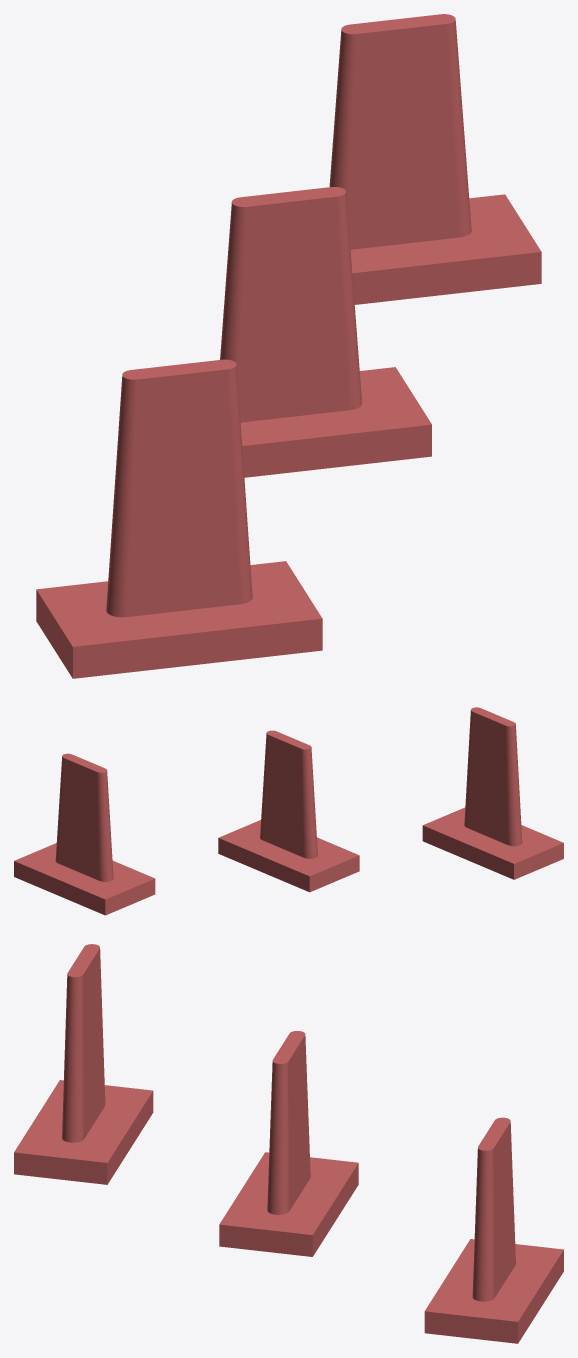
File: bridge2_piers.obj
The picture shows the model from 3 angles, top to bottom: view 1: azimuth 30°, elevation 25°; view 2: azimuth 150°, elevation 25°; view 3: azimuth 270°, elevation 25°; orthographic projection. The views are drawn at different scales.
Visible parts, largest first — view 1: mesh_0, mesh_1, mesh_2; view 2: mesh_0, mesh_1, mesh_2; view 3: mesh_0, mesh_2, mesh_1.
Boxes of the visible parts, left/top/right/bottom form: mesh_0: left=36, top=359, right=322, bottom=678; mesh_1: left=220, top=187, right=431, bottom=477; mesh_2: left=329, top=14, right=541, bottom=304; mesh_0: left=422, top=707, right=563, bottom=879; mesh_1: left=218, top=730, right=359, bottom=892; mesh_2: left=14, top=753, right=155, bottom=915; mesh_0: left=14, top=944, right=153, bottom=1184; mesh_2: left=424, top=1117, right=563, bottom=1343; mesh_1: left=219, top=1031, right=358, bottom=1256.
Size of the model in its own units: 37.63 by 12.5 by 34.1.
